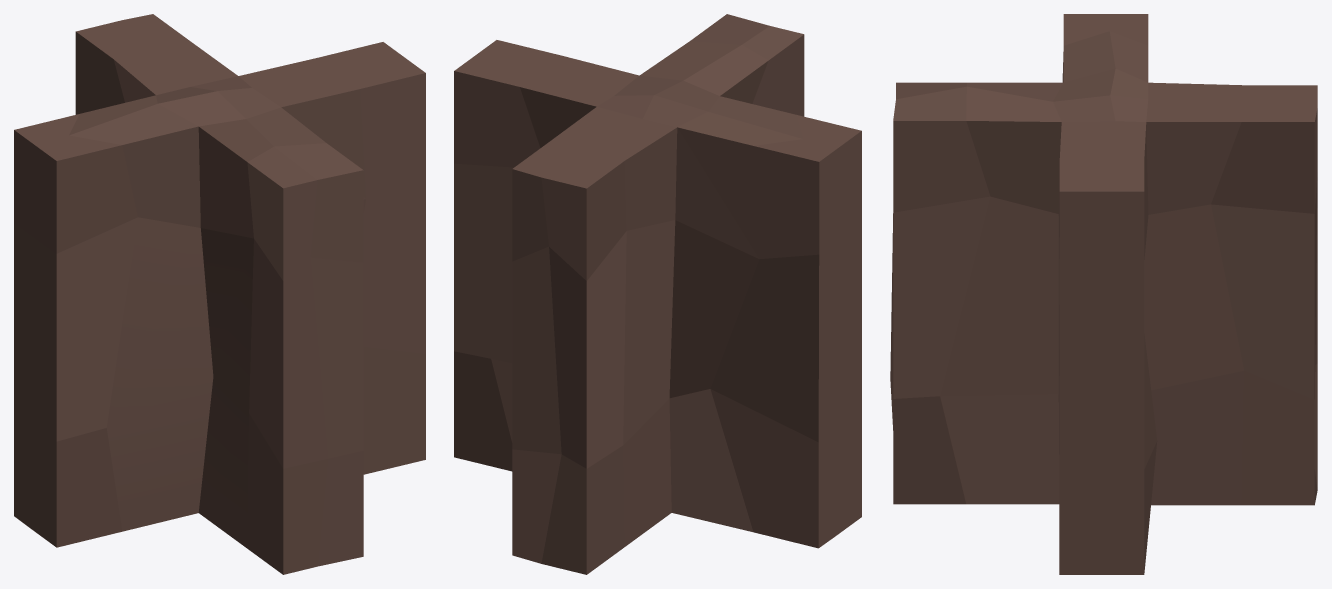
Rendered from Cave_Wall_Corner_4_Sided.fbx.
3 views of the same model, side by side, from view 1: azimuth 30°, elevation 25°; view 2: azimuth 150°, elevation 25°; view 3: azimuth 270°, elevation 25° (orthographic).
Parts seen in each view (by area): view 1: Cave_Wall_Corner_4_Sided; view 2: Cave_Wall_Corner_4_Sided; view 3: Cave_Wall_Corner_4_Sided.
Boxes of the visible parts, box(x1,y1,x2,y2) form: Cave_Wall_Corner_4_Sided: box(14, 14, 425, 574); Cave_Wall_Corner_4_Sided: box(454, 14, 861, 574); Cave_Wall_Corner_4_Sided: box(890, 14, 1317, 574).
Bounding box in the file's own units: 4.97 × 5.05 × 5.12.
